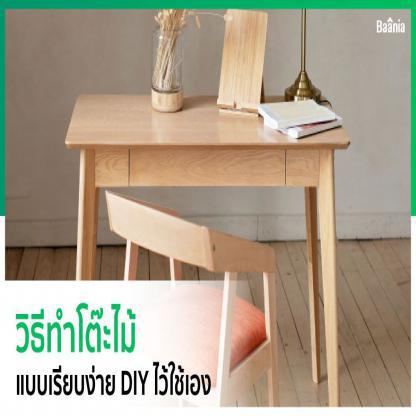table: (64, 84, 352, 416)
